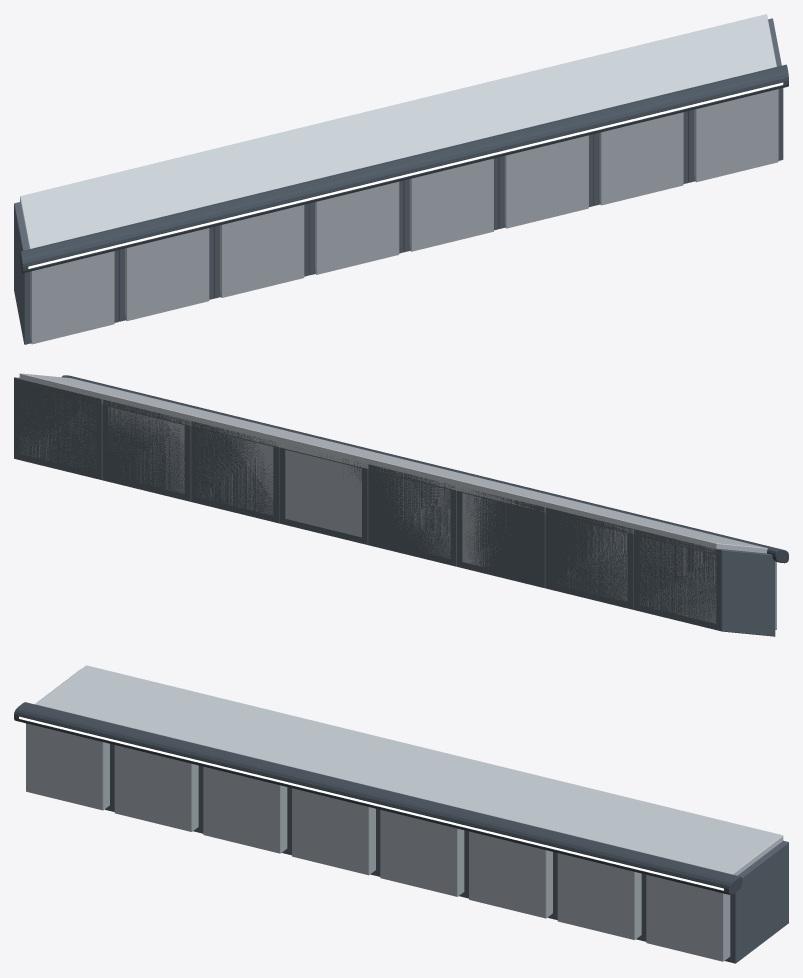
The model's file is Terrain_TopRun8LR.gltf.
3 renders of one model, top to bottom at view 1: azimuth 30°, elevation 25°; view 2: azimuth 150°, elevation 25°; view 3: azimuth 330°, elevation 25°, orthographic. The views are drawn at different scales.
Parts seen in each view (by area): view 1: Terrain_TopRun8LR_baked; view 2: Terrain_TopRun8LR_baked; view 3: Terrain_TopRun8LR_baked.
Boxes of the visible parts, x1=… form: Terrain_TopRun8LR_baked: x1=14, y1=14, x2=788, y2=344; Terrain_TopRun8LR_baked: x1=14, y1=373, x2=788, y2=636; Terrain_TopRun8LR_baked: x1=14, y1=665, x2=788, y2=963.
Bounding box in the file's own units: 8.33 × 1.18 × 0.74.
